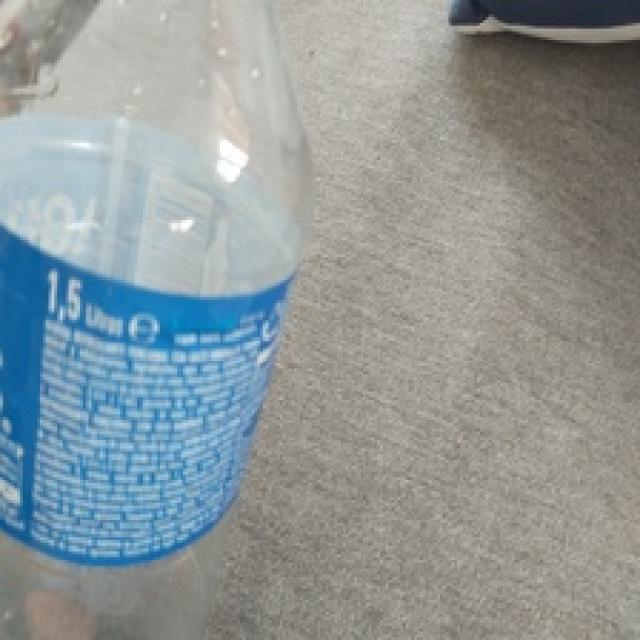Plastic: (0, 0, 316, 640)
